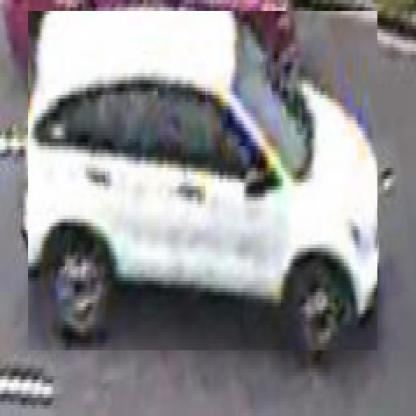car: (29, 12, 380, 355)
